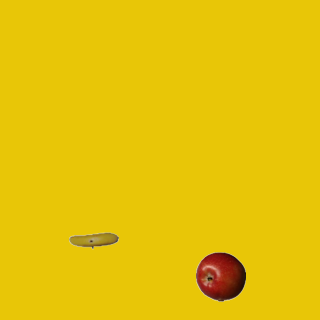Apple Braeburn: (195, 251, 245, 301)
Banana: (68, 215, 118, 265)
